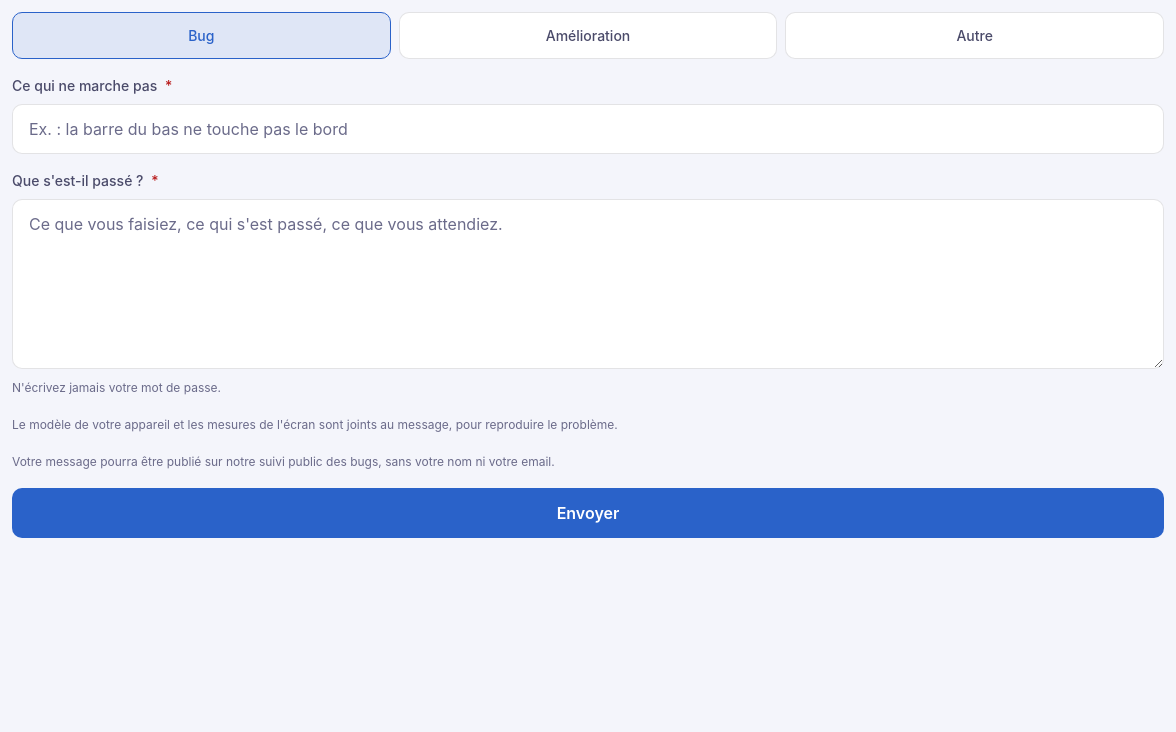
Test: SupportForm › envoie un bug avec l'appareil et l'écran, puis affiche la référence
Type "  La navbar flotte " into the field with id "support-subject" at coordinates (588, 129), box [12,104,1164,154]
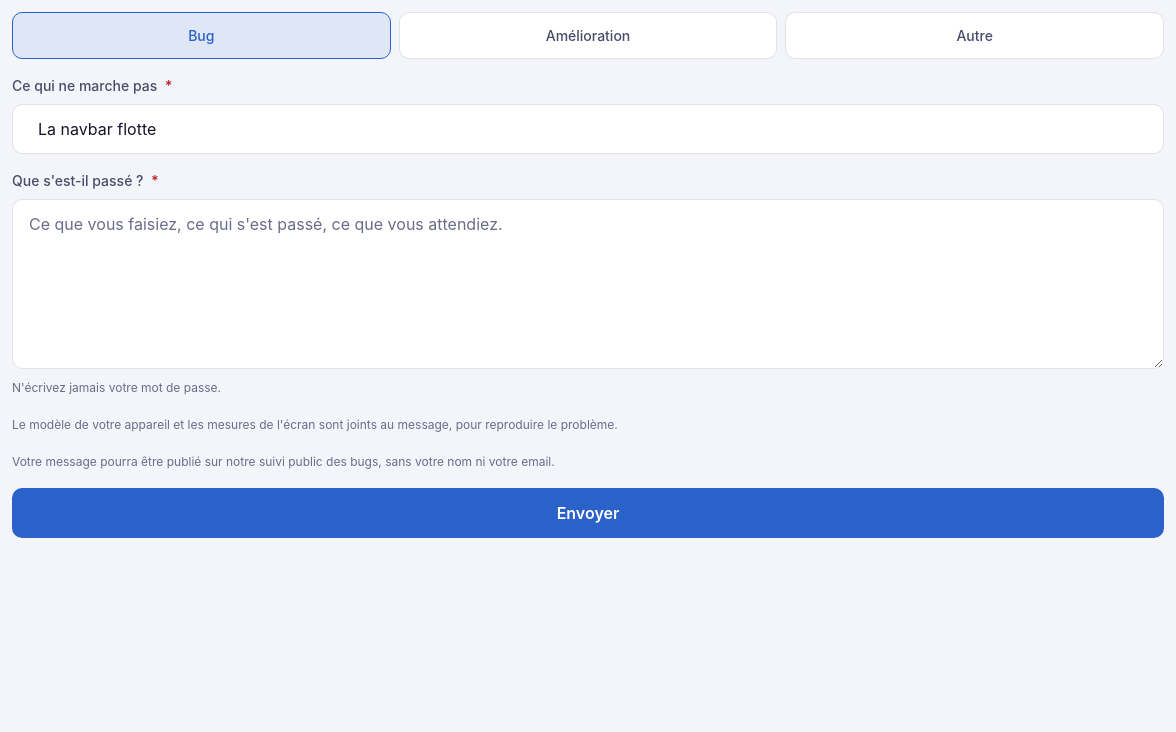
Replace the text in the text box with id "support-message" with "Une bande vide reste sous la barre du bas." at coordinates (588, 284), box [12,199,1164,369]
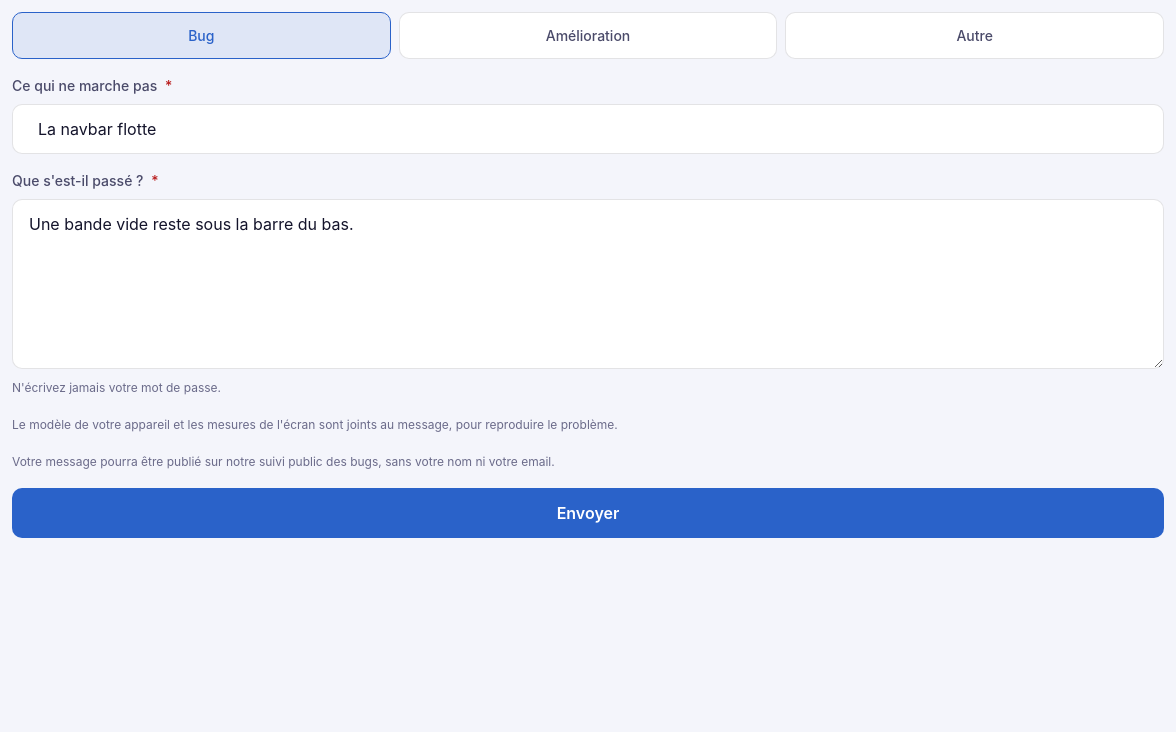
Submit the form
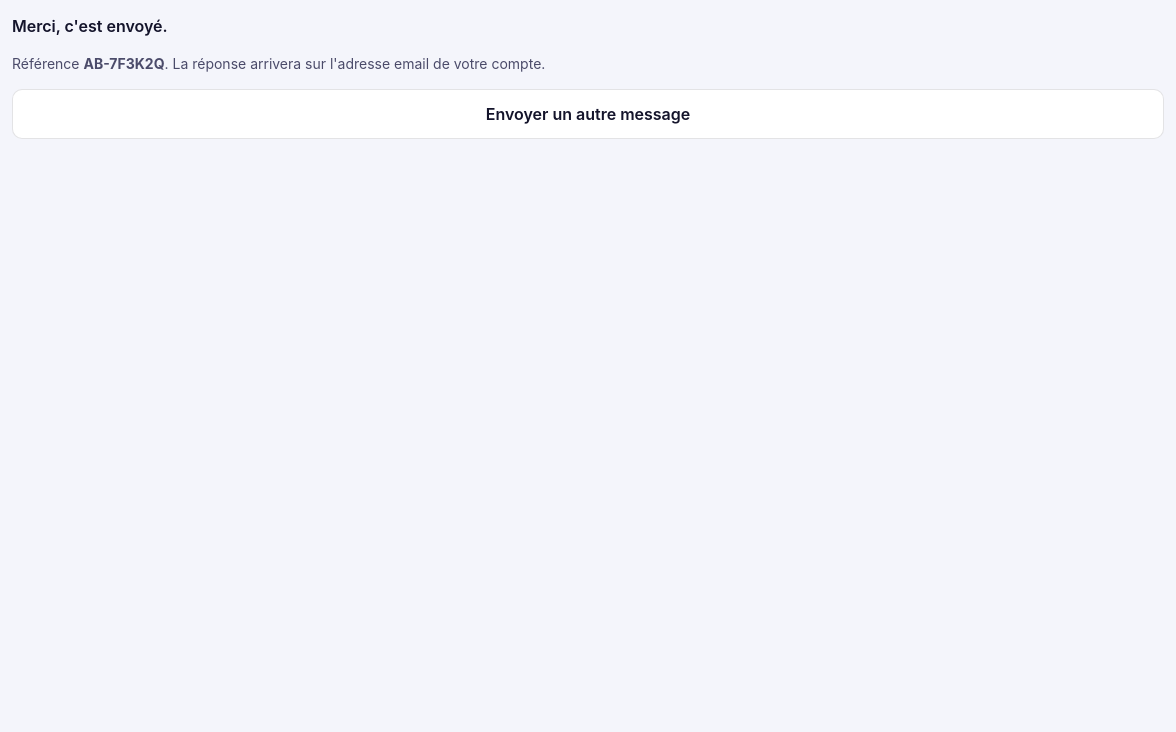
Now the text "AB-7F3K2Q" is shown, box [84,55,164,72]
